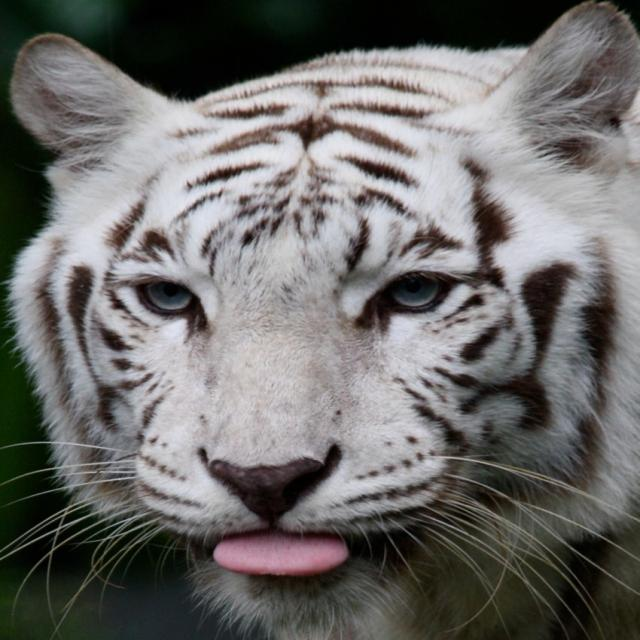tiger: (19, 17, 624, 584)
